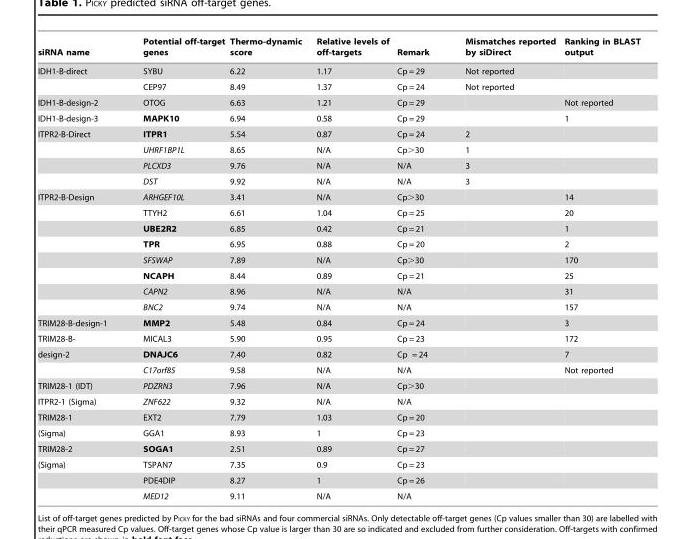table: (36, 36, 639, 500)
table column: (446, 36, 559, 500), (124, 36, 226, 500), (36, 36, 124, 500), (308, 36, 392, 500), (226, 36, 308, 500), (559, 36, 639, 500), (392, 36, 446, 500)
table column header: (36, 36, 639, 61)
table row: (36, 36, 639, 61), (36, 61, 639, 78), (36, 78, 639, 94), (36, 94, 639, 110), (36, 110, 639, 126), (36, 141, 639, 157), (36, 157, 639, 173), (36, 188, 639, 204), (36, 204, 639, 220), (36, 220, 639, 236), (36, 251, 639, 267), (36, 267, 639, 283), (36, 283, 639, 299), (36, 299, 639, 315), (36, 330, 639, 346), (36, 346, 639, 362), (36, 377, 639, 393), (36, 393, 639, 409), (36, 409, 639, 425), (36, 440, 639, 456), (36, 456, 639, 472), (36, 472, 639, 488), (36, 126, 639, 141), (36, 173, 639, 188), (36, 236, 639, 251), (36, 315, 639, 330), (36, 362, 639, 377), (36, 425, 639, 440), (36, 488, 639, 500)
table spanning cell: (36, 188, 124, 315), (36, 126, 124, 188), (36, 456, 124, 500), (36, 61, 124, 94), (36, 346, 124, 377)
